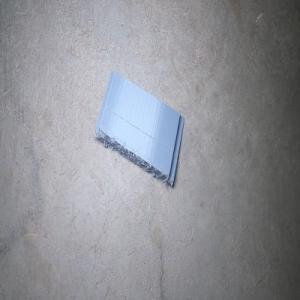PlasticPart: (92, 70, 184, 188)
